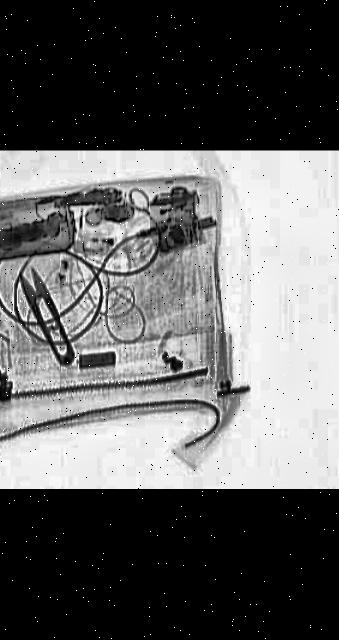Scissors: (12, 266, 84, 366)
